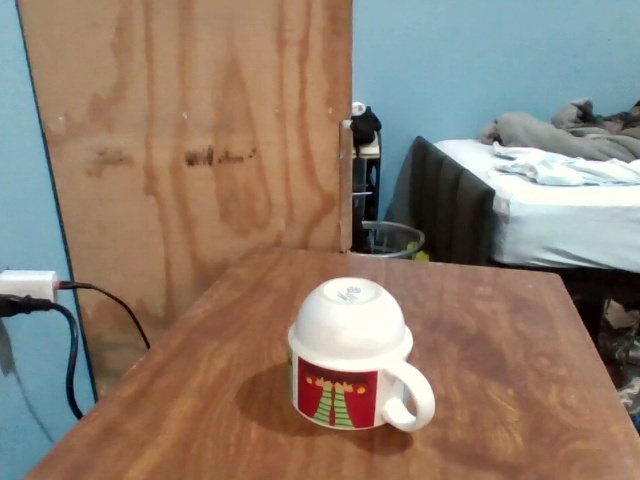taza: (286, 279, 435, 434)
